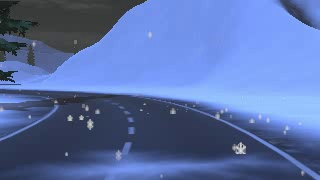Lane: (0, 90, 318, 179)
